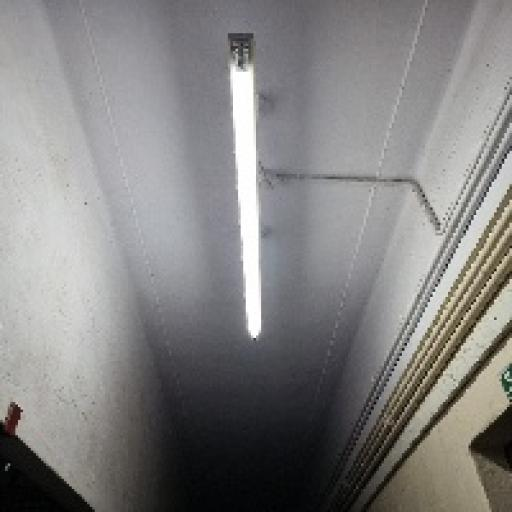Working: (215, 30, 300, 351)
